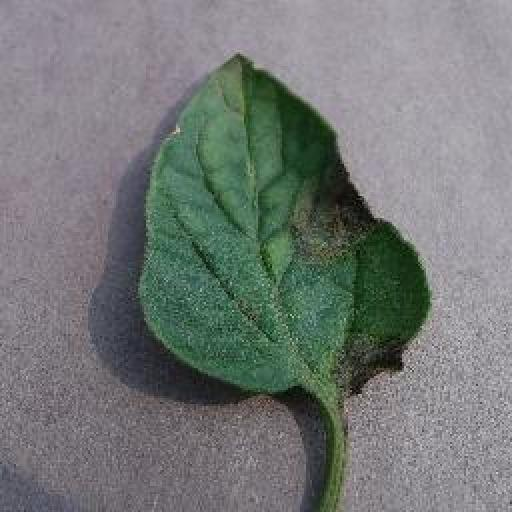Late Blight: (137, 50, 431, 398)
